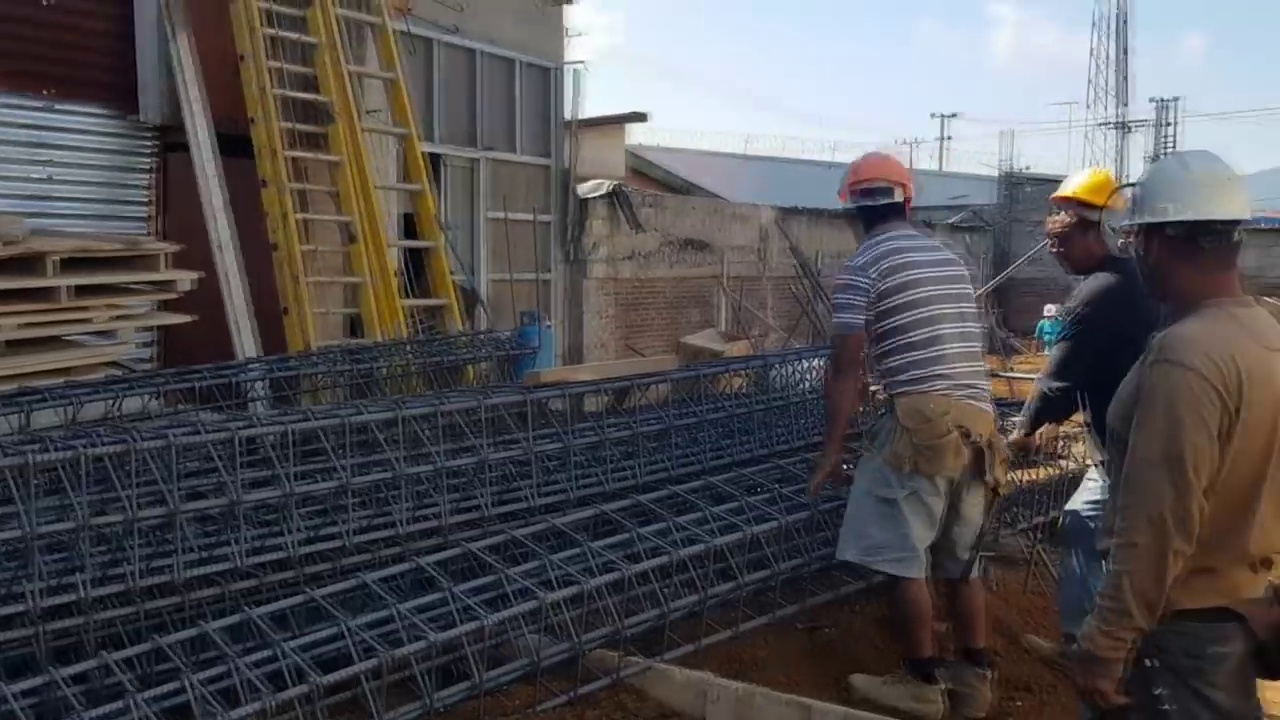helmet: (1121, 148, 1254, 235), (1046, 169, 1129, 222), (843, 149, 916, 207), (1043, 304, 1058, 317)
helmet-on: (1123, 146, 1254, 311), (1043, 165, 1130, 286), (837, 148, 922, 245), (1042, 302, 1059, 323)
person: (817, 145, 1006, 714), (1089, 146, 1278, 694), (1008, 162, 1135, 677), (1034, 303, 1066, 354)
